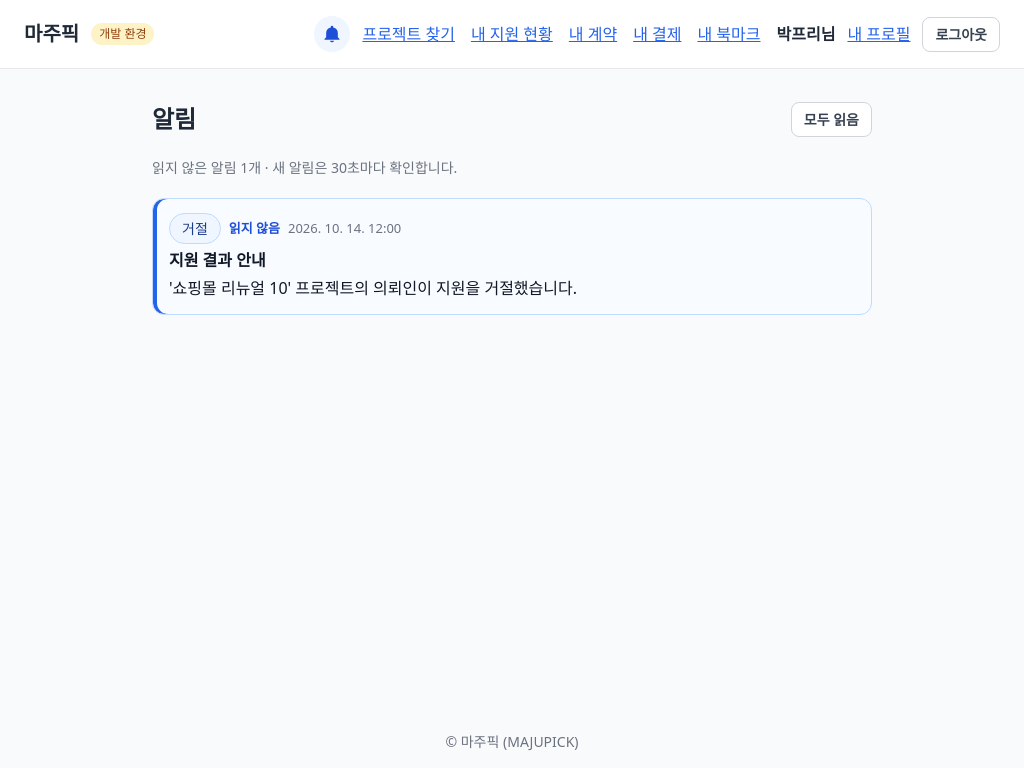
Test: notifications page › stays on the list and explains when marking read fails
Click the button "지원 결과 안내" at [195, 228], box left=152, top=198, right=872, bottom=315
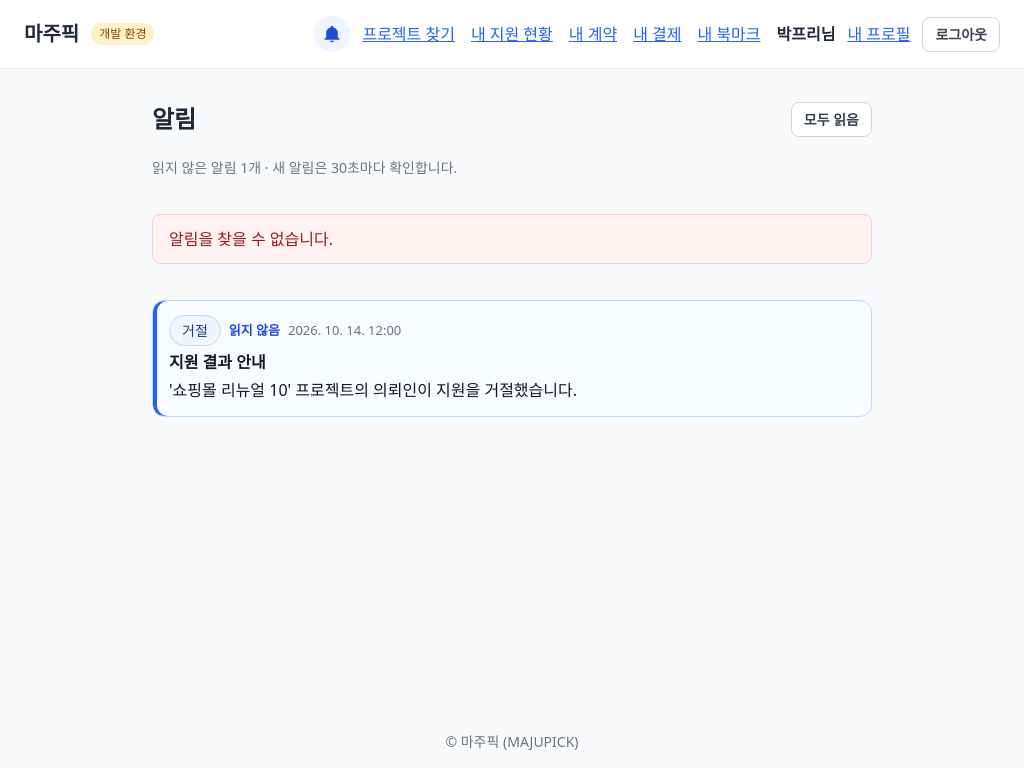
Result: the text "알림을 찾을 수 없습니다." is shown at left=152, top=214, right=872, bottom=264
